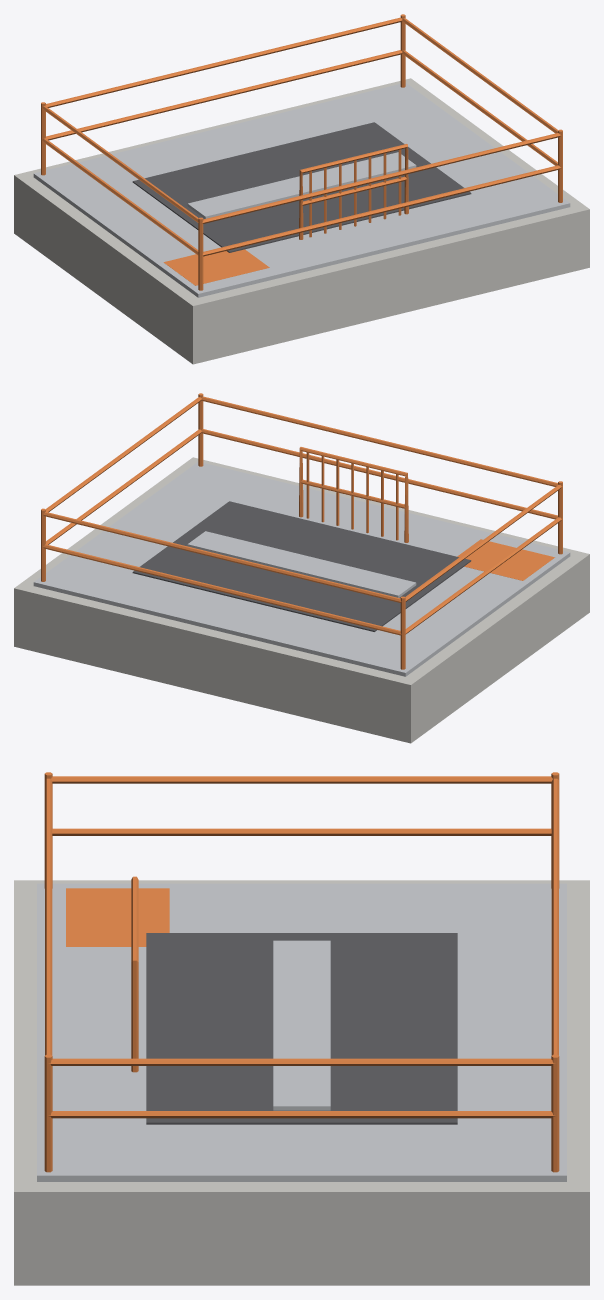
The model's file is underground-mine-and-shaft-works-shaft-collar-5bd54298.glb.
The picture shows the model from 3 angles, top to bottom: view 1: azimuth 30°, elevation 25°; view 2: azimuth 150°, elevation 25°; view 3: azimuth 270°, elevation 25°; orthographic projection. The views are drawn at different scales.
Parts seen in each view (by area): view 1: shaft-collar, gate; view 2: shaft-collar, gate; view 3: shaft-collar, gate.
Part boxes in pixels (box(x1,y1,x2,y2)): shaft-collar: box(14, 14, 589, 364); gate: box(299, 144, 408, 239); shaft-collar: box(14, 393, 589, 743); gate: box(299, 447, 408, 542); shaft-collar: box(14, 772, 589, 1285); gate: box(131, 876, 138, 1072).
Size of the model in its own units: 6.4 by 2.11 by 5.
